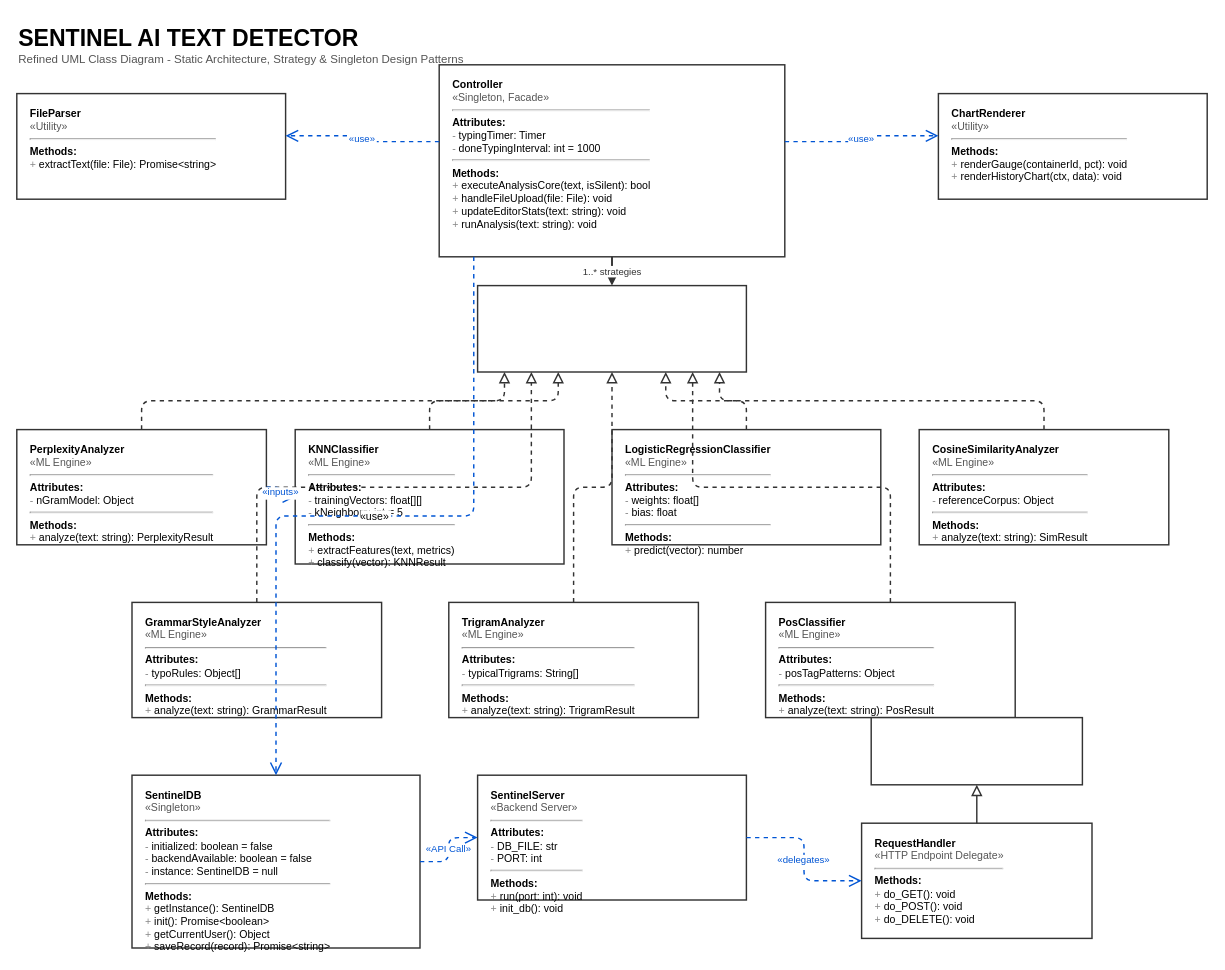
Some shapes in this 1225 by 970 pixel diagram are drawn without their labels. The box of each missing label's shape, as (x1, y1, x2, y2) in pixels:
AnalysisEngine «Interface» Methods: + analyze(text: string): EngineResult: (476, 284, 747, 372)
BaseHTTPRequestHandler «Python Std Library»: (870, 716, 1083, 785)
